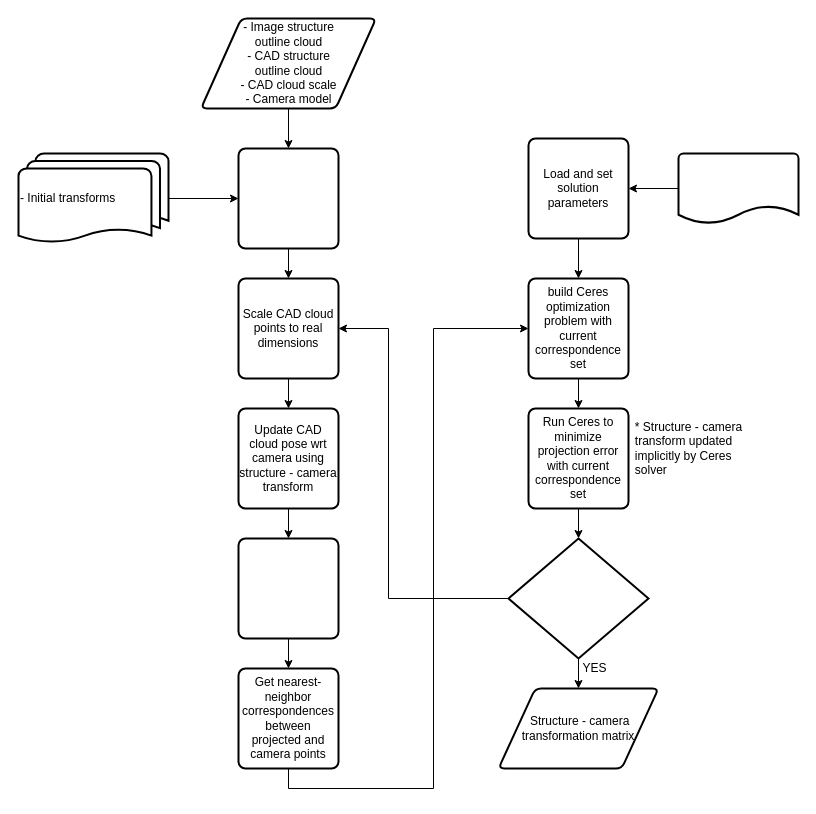
This 816x814 diagram has some shape labels left out. The shapes that lost their labels are listed below. From the top down, each one's centre as x and y in pixels, then its label:
At [288,198]: "Load initial transforms to CAD cloud".
At [738,188]: "Solution parameters".
At [288,588]: "Project CAD cloud points to camera frame".
At [578,598]: "Solution converged || max iterations reached?".
